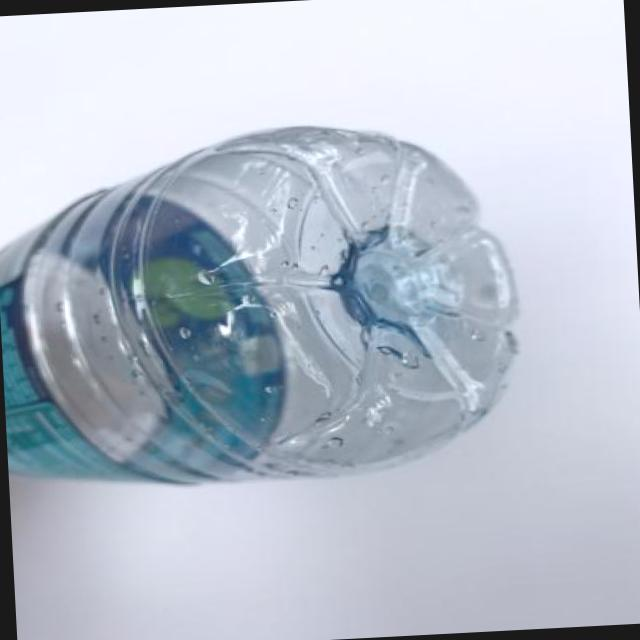plastic: (0, 162, 479, 531)
